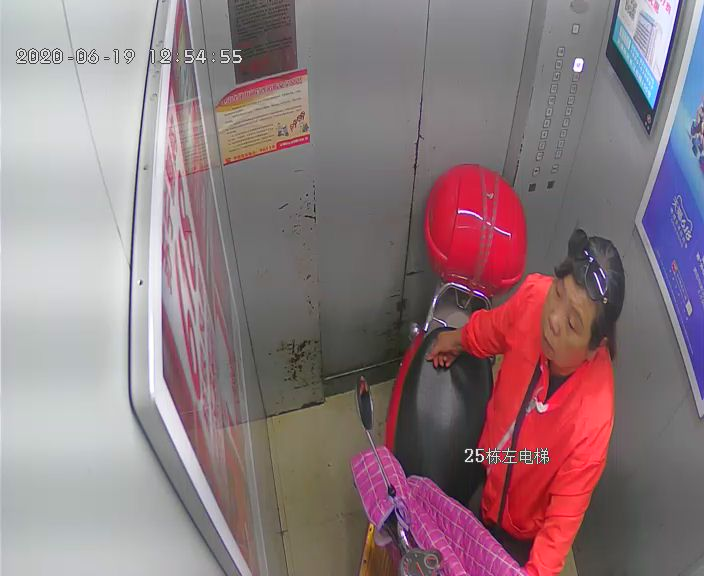Electric-bicycle: (349, 172, 537, 561)
